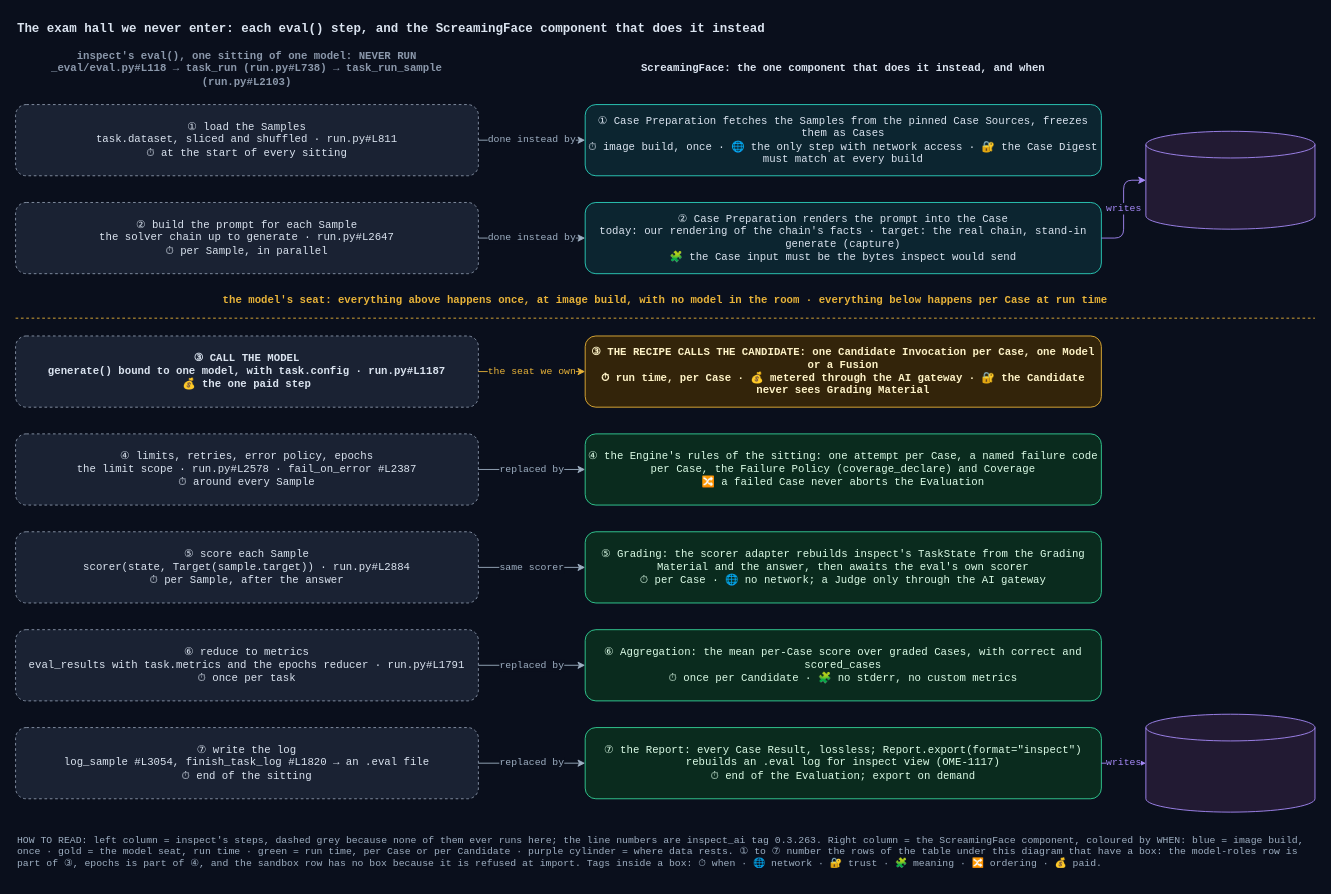
Some shapes in this 1331 by 894 pixel diagram are drawn without their labels. The centre of each missing label's shape, as x and y in pixels:
🗄️ prepared Cases cases.json + targets/ 💾 inside the Engine image: the point at 1230,179
🗄️ the Report 💾 the Evaluation's artefact, kept by the SDK: the point at 1230,762
